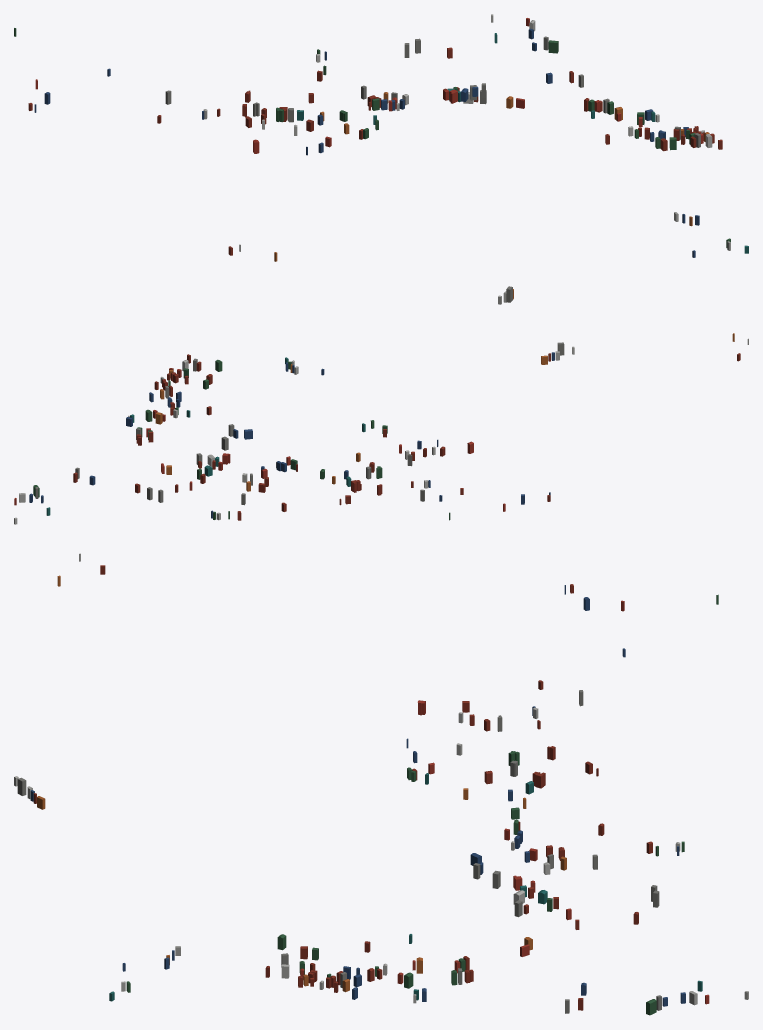
File: near-15-27364-14871.941d57fc.glb
The picture shows the model from 3 angles, top to bottom: view 1: azimuth 30°, elevation 25°; view 2: azimuth 150°, elevation 25°; view 3: azimuth 270°, elevation 25°; orthographic projection. The views are drawn at different scales.
Bounding box in the file's own units: 1171 × 285 × 1162.
